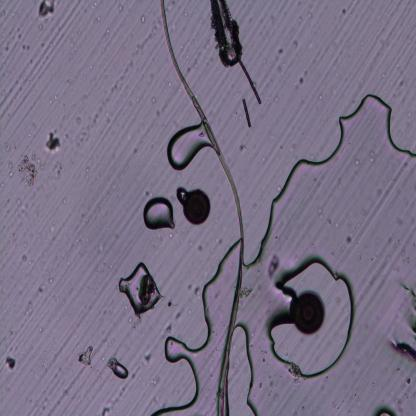Air bubble: (245, 95, 416, 412), (152, 247, 236, 416), (262, 254, 356, 383), (229, 321, 258, 416), (118, 262, 163, 314), (166, 124, 208, 171), (142, 196, 177, 232), (113, 363, 129, 381), (376, 408, 394, 416)
Background material: (292, 291, 326, 335), (240, 61, 261, 106), (17, 154, 38, 190), (392, 338, 416, 364), (264, 252, 282, 278), (400, 280, 416, 308), (45, 130, 62, 155), (34, 0, 57, 17), (76, 125, 92, 147), (94, 263, 112, 281), (78, 346, 94, 366), (88, 106, 102, 128), (51, 161, 65, 182), (237, 282, 256, 297), (119, 61, 132, 82), (244, 99, 252, 131), (4, 356, 17, 372), (36, 356, 49, 371), (290, 366, 302, 382), (0, 88, 13, 102), (141, 33, 153, 48), (119, 381, 128, 397), (395, 396, 403, 414), (10, 87, 22, 99), (132, 44, 142, 57), (367, 150, 376, 164), (169, 21, 180, 31), (266, 374, 274, 387), (100, 406, 110, 416), (331, 397, 339, 409), (344, 233, 352, 245), (96, 244, 105, 254), (107, 338, 116, 348), (144, 352, 152, 363), (5, 40, 13, 51), (160, 102, 168, 113), (378, 37, 385, 49), (89, 207, 97, 217), (108, 359, 116, 369), (411, 317, 416, 333), (402, 159, 410, 169), (298, 75, 306, 85), (276, 184, 284, 194), (174, 311, 182, 321), (106, 112, 112, 125), (31, 150, 38, 161), (318, 208, 325, 219), (290, 144, 297, 155), (363, 59, 369, 71), (95, 373, 103, 382), (293, 78, 299, 90), (406, 374, 412, 386), (20, 254, 28, 263), (238, 144, 247, 152), (4, 142, 11, 152), (21, 44, 31, 51), (377, 188, 384, 198), (405, 36, 413, 44), (102, 44, 110, 52), (111, 84, 118, 93), (117, 3, 124, 12), (67, 76, 73, 86), (140, 14, 146, 24), (166, 323, 172, 333), (167, 301, 175, 308), (272, 394, 280, 401), (296, 15, 303, 23), (276, 66, 283, 74), (150, 379, 158, 386), (180, 42, 185, 53), (77, 27, 82, 38), (307, 12, 313, 21), (340, 7, 346, 16), (153, 24, 159, 33), (92, 365, 98, 374), (62, 101, 66, 114), (272, 96, 279, 103), (197, 244, 204, 251), (270, 15, 276, 23), (250, 330, 256, 338), (78, 74, 86, 80), (292, 41, 298, 49), (400, 250, 406, 258), (151, 97, 157, 105), (260, 350, 268, 356), (104, 71, 110, 79), (310, 152, 316, 160), (104, 96, 110, 104), (276, 48, 284, 54), (204, 43, 210, 51), (22, 74, 28, 82), (106, 28, 110, 39), (40, 164, 46, 171), (186, 284, 192, 291), (145, 190, 151, 197), (127, 317, 134, 323), (308, 42, 314, 49), (50, 226, 56, 233), (154, 109, 160, 116), (7, 161, 13, 168), (15, 28, 22, 34), (354, 159, 361, 165), (214, 237, 220, 244), (399, 79, 403, 89), (318, 94, 323, 102), (131, 370, 136, 378), (76, 238, 82, 244), (361, 41, 365, 50), (62, 198, 68, 204), (5, 198, 11, 204), (8, 172, 14, 178), (36, 158, 42, 164), (131, 324, 137, 330), (16, 34, 22, 40), (258, 382, 264, 388), (194, 288, 200, 294), (28, 58, 34, 64), (64, 133, 69, 140), (327, 218, 332, 225), (38, 23, 43, 30), (186, 67, 191, 74), (51, 209, 56, 216), (154, 395, 158, 403), (77, 117, 81, 125), (158, 18, 162, 26), (10, 328, 14, 336), (304, 71, 309, 77), (1, 90, 6, 96), (136, 314, 141, 320), (14, 209, 19, 215), (135, 96, 140, 102), (301, 406, 306, 412), (278, 145, 284, 150), (64, 390, 70, 395), (133, 148, 138, 154), (11, 232, 16, 238), (168, 232, 173, 238), (53, 337, 58, 343), (48, 278, 53, 284), (382, 73, 386, 80), (396, 62, 400, 69), (194, 62, 198, 69), (262, 156, 266, 163), (168, 81, 172, 88), (97, 204, 101, 211), (162, 124, 166, 131), (14, 346, 18, 353), (86, 166, 90, 173), (282, 62, 287, 67), (334, 72, 339, 77), (51, 236, 56, 241), (102, 338, 107, 343), (45, 270, 50, 275), (359, 79, 364, 84), (23, 242, 28, 247), (85, 236, 89, 242), (54, 94, 58, 100), (39, 288, 43, 294), (30, 234, 34, 240), (56, 316, 60, 322), (338, 50, 342, 56), (262, 58, 266, 64), (74, 48, 77, 56), (239, 114, 243, 120), (38, 327, 42, 333), (8, 347, 12, 353), (19, 290, 23, 296), (84, 8, 88, 14), (26, 308, 29, 316), (21, 268, 25, 274), (90, 64, 94, 70), (106, 226, 110, 232), (177, 173, 181, 179), (1, 10, 5, 16), (29, 302, 33, 308), (31, 201, 34, 208), (17, 198, 20, 205), (10, 240, 14, 245), (392, 93, 396, 98), (6, 209, 10, 214), (2, 225, 6, 230), (86, 218, 90, 223), (81, 213, 85, 218), (21, 323, 26, 327), (57, 367, 62, 371), (2, 245, 6, 250), (103, 309, 107, 314), (26, 204, 29, 210), (116, 234, 119, 240), (0, 1, 3, 7), (28, 260, 31, 266), (48, 125, 52, 129), (42, 406, 46, 410), (154, 138, 158, 142), (15, 80, 19, 84), (250, 344, 254, 348), (100, 164, 104, 168), (21, 210, 25, 214), (1, 184, 5, 188), (198, 297, 202, 301), (73, 335, 77, 339), (102, 357, 106, 361), (57, 400, 61, 404), (146, 162, 150, 166), (12, 12, 15, 17), (20, 221, 23, 226), (57, 240, 60, 245), (18, 75, 21, 80), (49, 99, 52, 104), (139, 363, 142, 368), (125, 305, 128, 310), (16, 374, 21, 377), (159, 349, 162, 354), (31, 74, 34, 79), (26, 213, 29, 218), (56, 259, 59, 264), (70, 43, 73, 48), (29, 399, 32, 404), (28, 133, 31, 137), (52, 221, 55, 225), (45, 239, 48, 243), (2, 197, 5, 201), (99, 132, 102, 136), (33, 90, 35, 96), (235, 110, 238, 114), (67, 262, 70, 266), (262, 358, 265, 362), (152, 74, 155, 78), (47, 172, 50, 176), (94, 2, 97, 6), (74, 397, 77, 401), (95, 288, 98, 292), (352, 101, 356, 104), (1, 158, 3, 164), (44, 349, 46, 355), (28, 354, 31, 358), (49, 400, 52, 404), (4, 310, 7, 314), (42, 42, 44, 48), (14, 193, 16, 198), (60, 266, 62, 271), (93, 51, 95, 56), (98, 17, 100, 22), (34, 125, 36, 130), (60, 350, 62, 355), (10, 153, 13, 156), (53, 344, 56, 347), (201, 389, 204, 392), (9, 157, 11, 161), (6, 131, 8, 135), (350, 13, 352, 17), (390, 82, 392, 86), (36, 37, 38, 41), (74, 78, 76, 82), (91, 6, 93, 10), (66, 226, 68, 230), (2, 38, 4, 42), (206, 396, 208, 400), (26, 275, 28, 279), (127, 334, 131, 336), (50, 42, 52, 46), (35, 282, 38, 284), (2, 74, 5, 76), (138, 87, 140, 90), (141, 138, 143, 141), (3, 34, 5, 36), (28, 80, 30, 82), (48, 96, 49, 99), (15, 147, 16, 149)
Diatom: (209, 0, 243, 68), (184, 190, 211, 224)
Microfibre: (160, 0, 243, 416)
